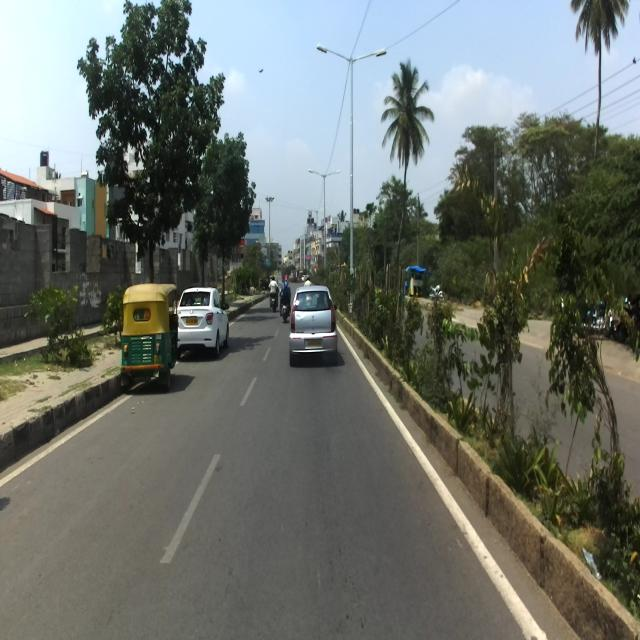auto ahead at: (120, 281, 180, 390)
car ahead at: (290, 281, 339, 372), (184, 289, 229, 353)
